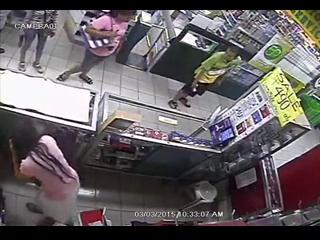Normal: (10, 132, 81, 226), (55, 12, 135, 84), (168, 47, 244, 110), (18, 10, 58, 74)
